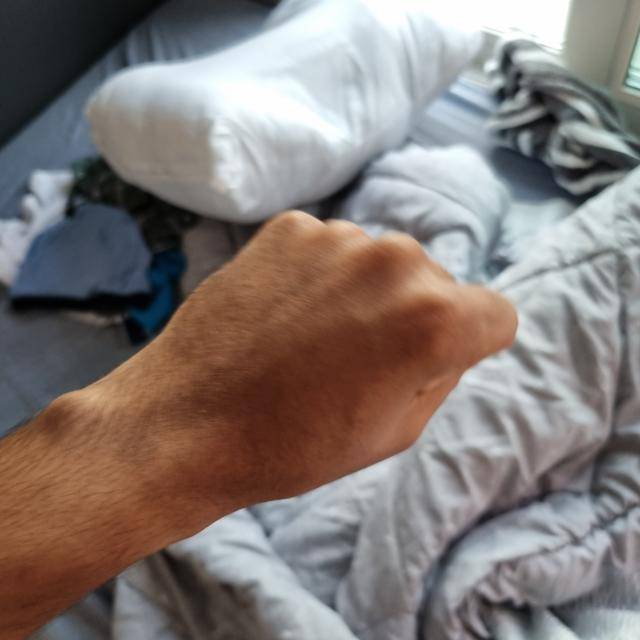Rock: (87, 217, 518, 513)
